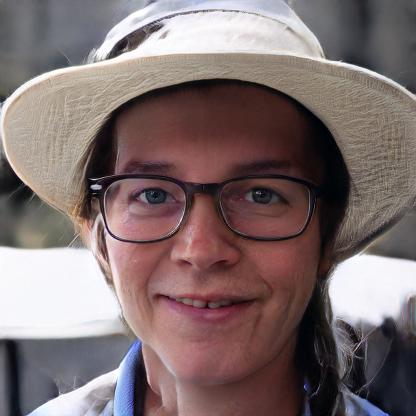glasses: (88, 172, 324, 245)
